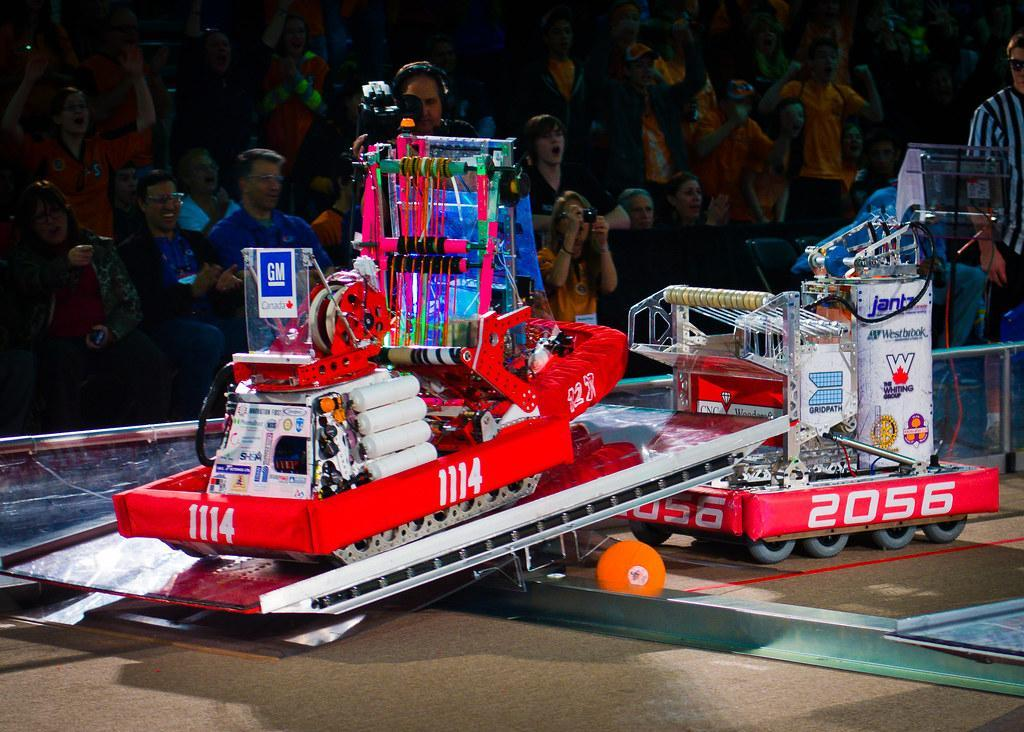robot: (105, 232, 578, 592), (600, 147, 1012, 559), (297, 74, 639, 462)
